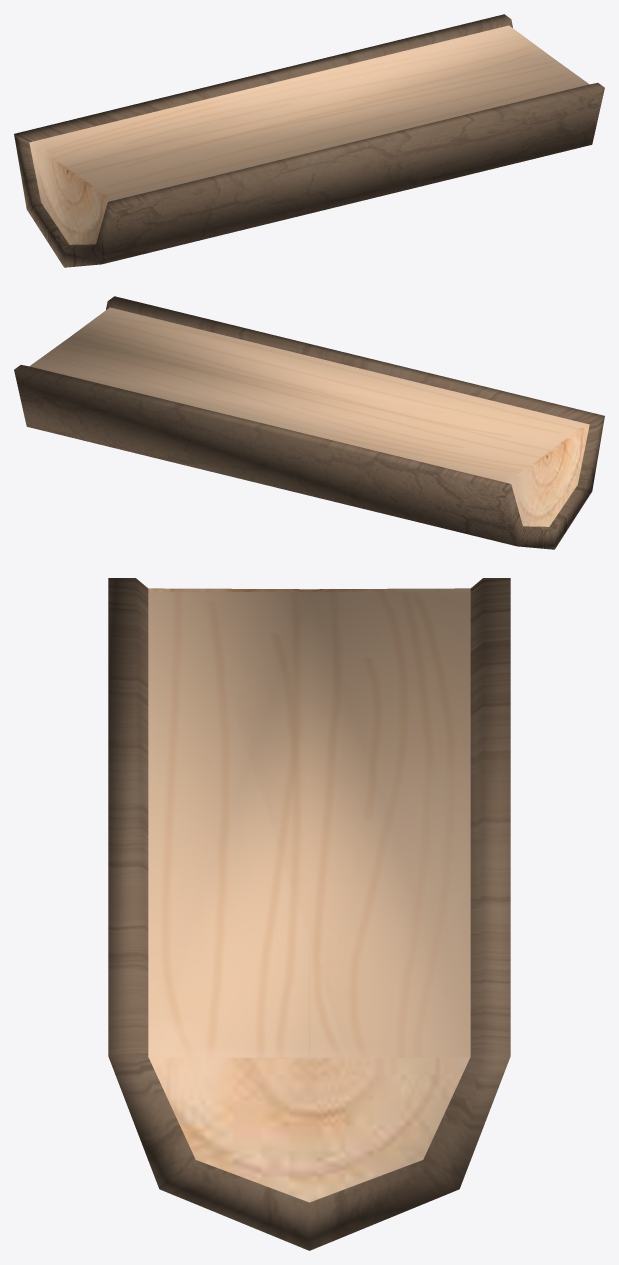
Rendered from Log2.FBX.
The picture shows the model from 3 angles, top to bottom: view 1: azimuth 30°, elevation 25°; view 2: azimuth 150°, elevation 25°; view 3: azimuth 270°, elevation 25°; orthographic projection. The views are drawn at different scales.
Visible parts, largest first — view 1: Cylinder002; view 2: Cylinder002; view 3: Cylinder002.
Part boxes in pixels (left/top/right/bottom): Cylinder002: left=14, top=14, right=604, bottom=267; Cylinder002: left=14, top=296, right=604, bottom=549; Cylinder002: left=108, top=578, right=510, bottom=1250.
Size of the model in its own units: 169 by 31.96 by 59.95.
1 material, 1 textured.
